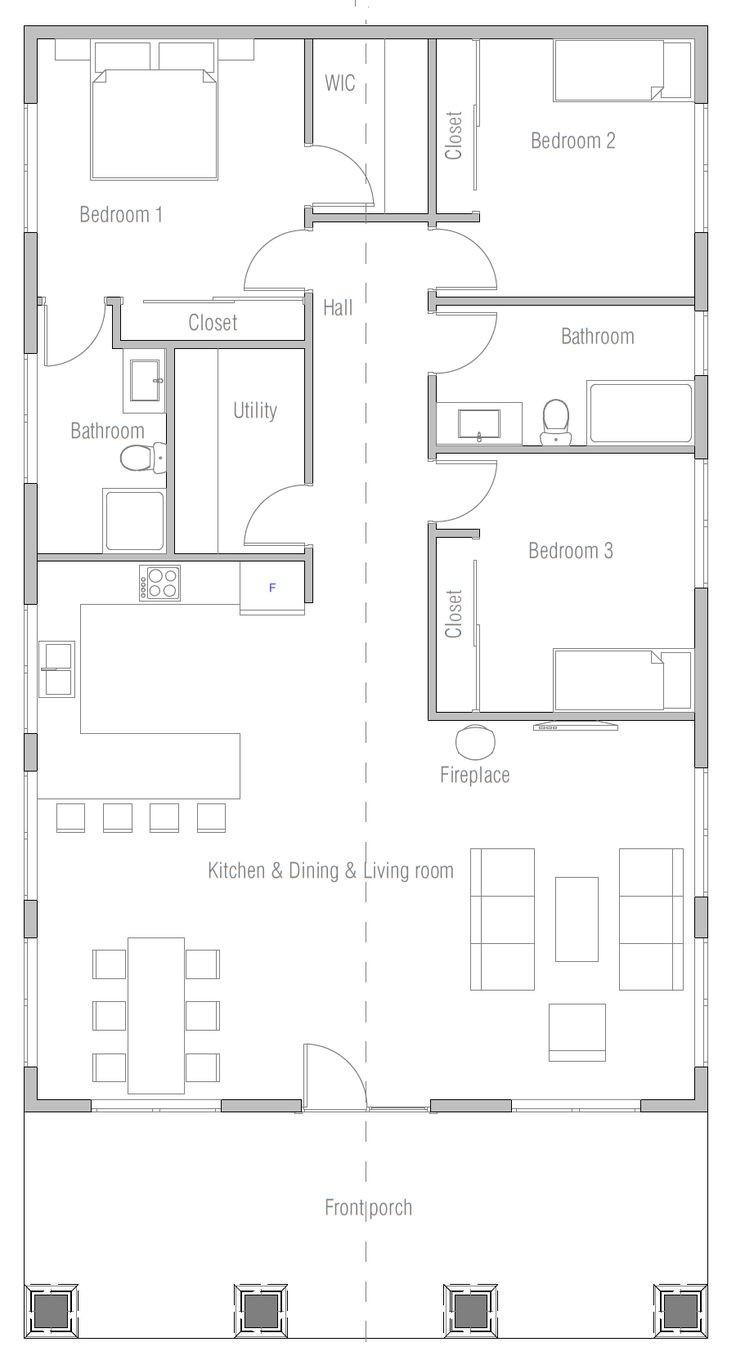door: (38, 287, 116, 374), (435, 225, 516, 292), (302, 1042, 382, 1108), (308, 142, 382, 208), (235, 224, 302, 292), (435, 458, 501, 527), (246, 485, 319, 545)
room: (38, 567, 392, 1108), (428, 721, 692, 1088), (36, 38, 301, 284), (442, 464, 691, 711), (438, 42, 688, 287), (435, 312, 691, 437), (175, 354, 312, 548), (41, 337, 158, 541)
wall: (26, 24, 709, 45), (48, 544, 314, 565), (422, 522, 448, 717), (421, 48, 445, 225), (12, 228, 42, 348), (694, 589, 712, 772), (296, 359, 322, 484), (25, 485, 49, 619), (318, 209, 475, 229), (226, 1091, 309, 1122), (24, 1085, 89, 1119), (296, 52, 319, 148), (688, 382, 715, 462), (421, 1095, 518, 1117), (644, 1092, 714, 1117), (16, 729, 52, 772), (421, 372, 439, 458), (19, 34, 39, 111), (16, 901, 41, 948), (694, 897, 715, 945), (699, 239, 709, 308)
window: (11, 952, 54, 1068), (686, 104, 714, 237), (15, 109, 44, 228), (689, 467, 718, 581), (524, 1095, 646, 1122), (16, 779, 42, 895), (94, 1094, 218, 1118), (692, 949, 714, 1071), (691, 774, 714, 889), (689, 314, 715, 381)
